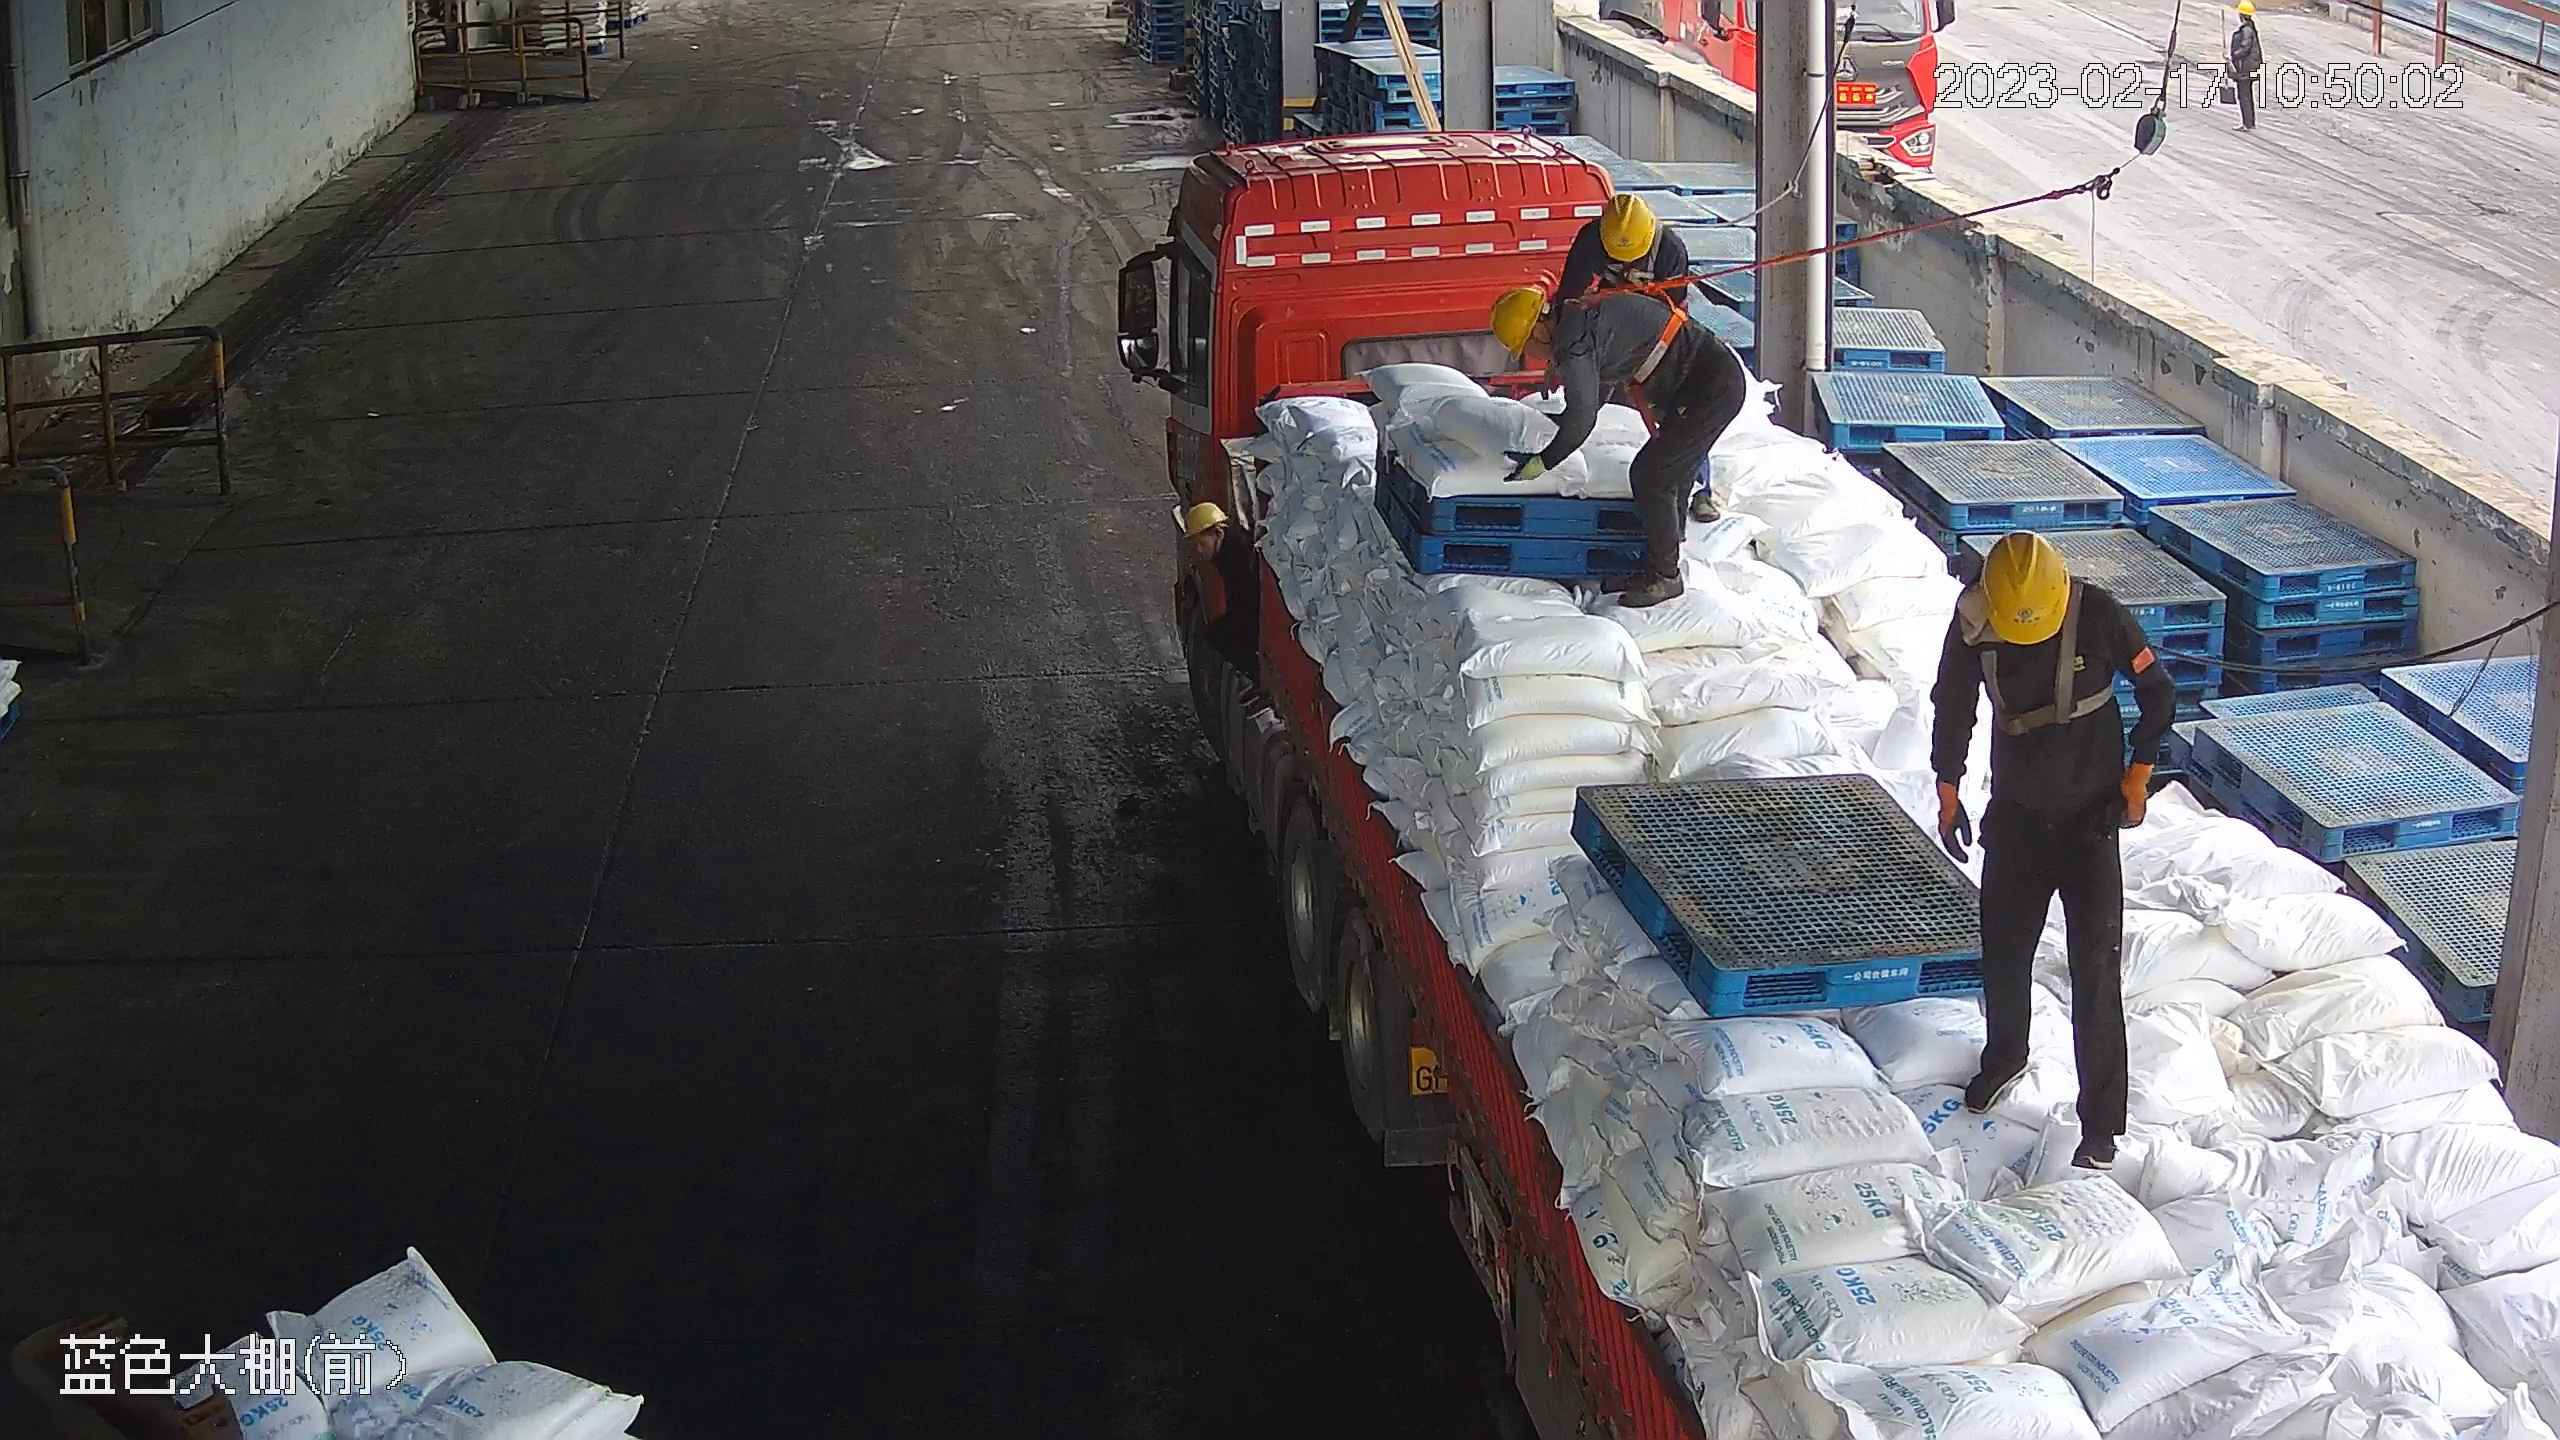belt: (1980, 576, 2123, 734), (1570, 265, 1697, 386)
head: (1942, 526, 2141, 680), (1489, 283, 1621, 380), (1566, 187, 1691, 284)
helmet: (1976, 527, 2072, 646), (1488, 284, 1552, 364), (1178, 502, 1227, 537)
people: (1925, 521, 2175, 1164), (1489, 274, 1749, 608)
truck: (1097, 134, 2555, 1438)
